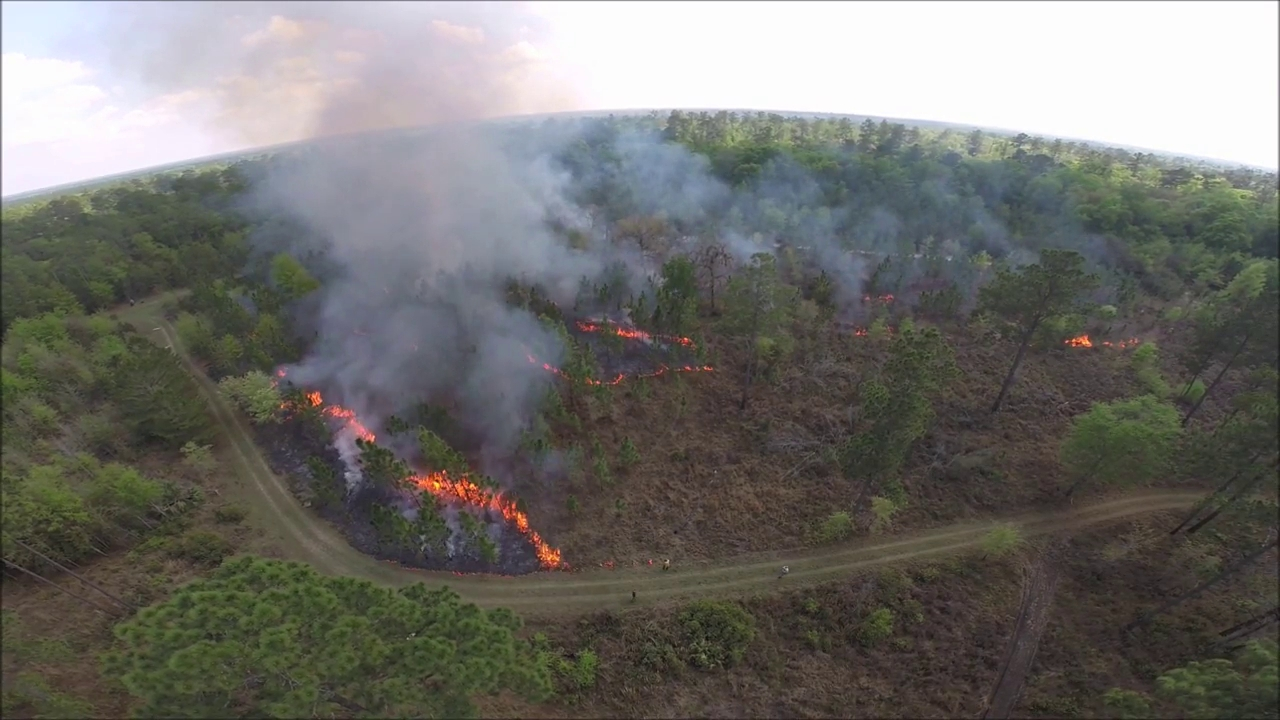forest_fire: (404, 461, 567, 568), (303, 391, 375, 442), (576, 322, 696, 348), (586, 365, 713, 386), (1063, 335, 1140, 348)
